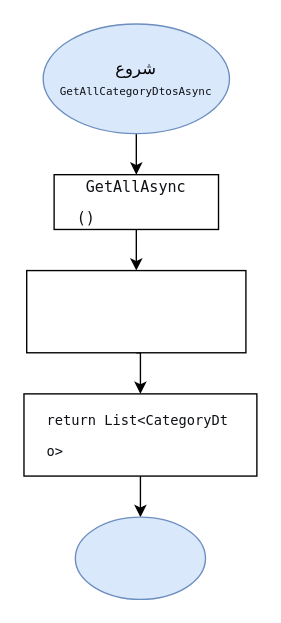
This 281x623 diagram has some shape labels left out. The centre of each missing label's shape, as x and y in pixels:
Select(MapToDto).ToList(): (x=135, y=311)
پایان: (x=140, y=557)
